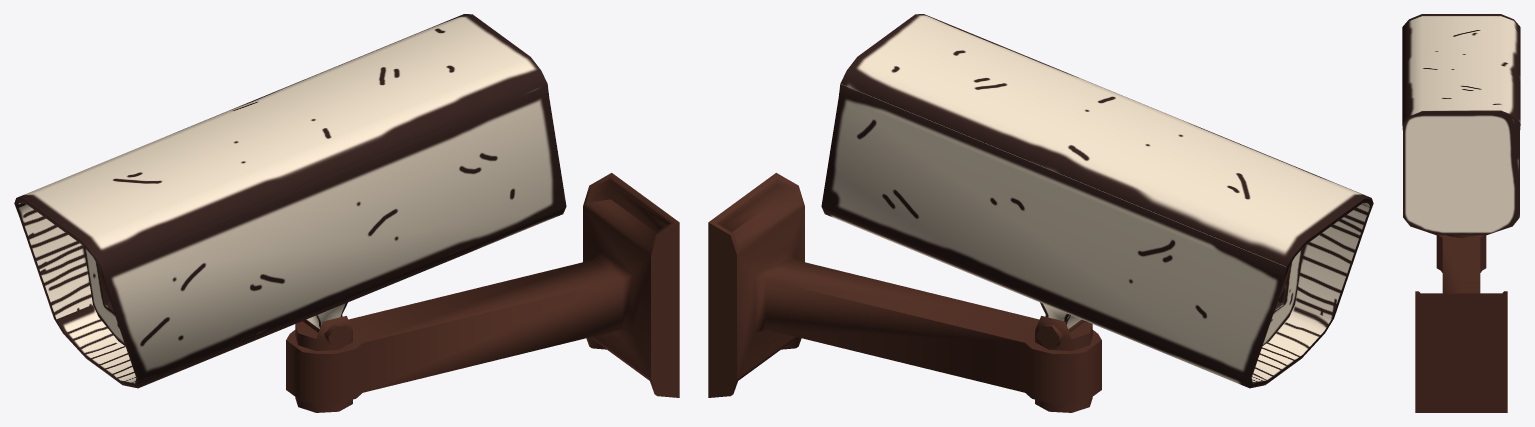
Rendered from camarablend.fbx.
The picture shows the model from 3 angles, left to right: view 1: azimuth 30°, elevation 25°; view 2: azimuth 150°, elevation 25°; view 3: azimuth 270°, elevation 25°; orthographic projection. The views are drawn at different scales.
Parts seen in each view (by area): view 1: Camera_Shape, Wall_Mount, Swivel; view 2: Camera_Shape, Wall_Mount, Swivel; view 3: Camera_Shape, Wall_Mount.
Boxes of the visible parts, x1,y1,x2,y2 form: Camera_Shape: (14,14,566,388); Wall_Mount: (286,173,679,403); Swivel: (295,316,352,412); Camera_Shape: (821,14,1373,388); Wall_Mount: (708,173,1101,403); Swivel: (1035,316,1092,412); Camera_Shape: (1402,14,1520,235); Wall_Mount: (1415,235,1507,412).
Bounding box in the file's own units: 45.4 × 27.27 × 11.54.
